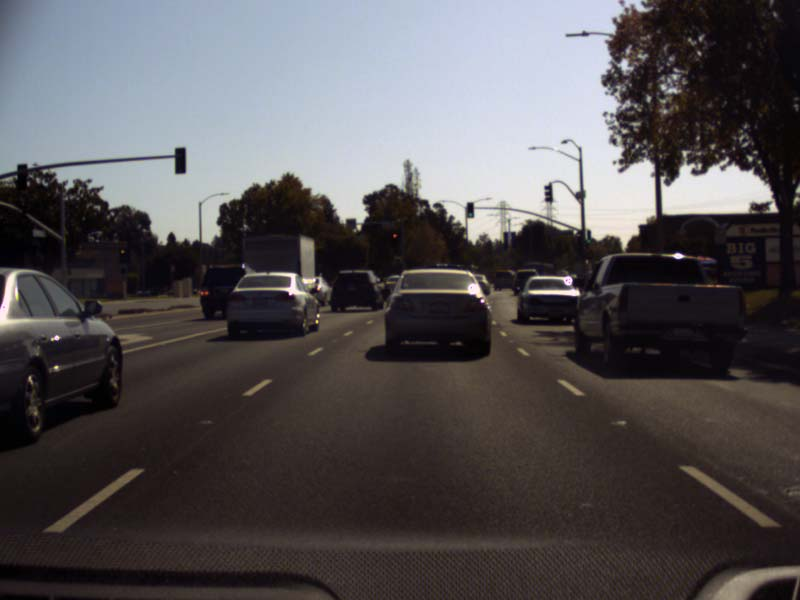Green: (466, 201, 473, 218), (586, 230, 591, 244)
Red: (391, 231, 398, 247), (119, 247, 126, 263)
